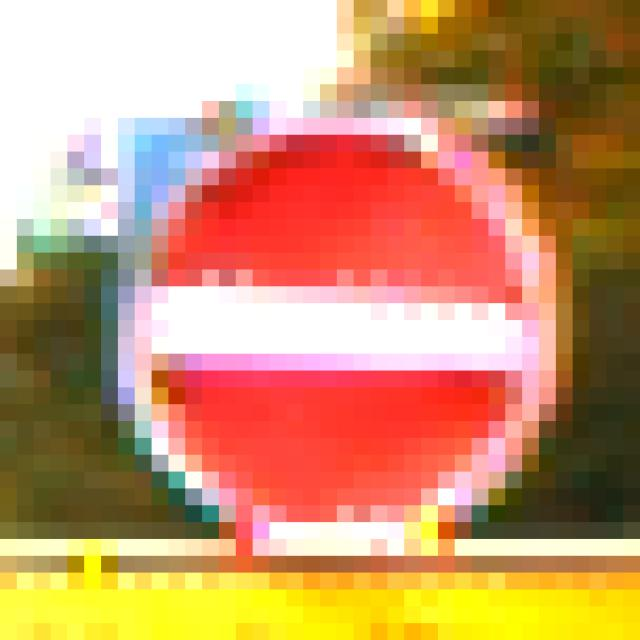No Entry: (102, 102, 540, 557)
